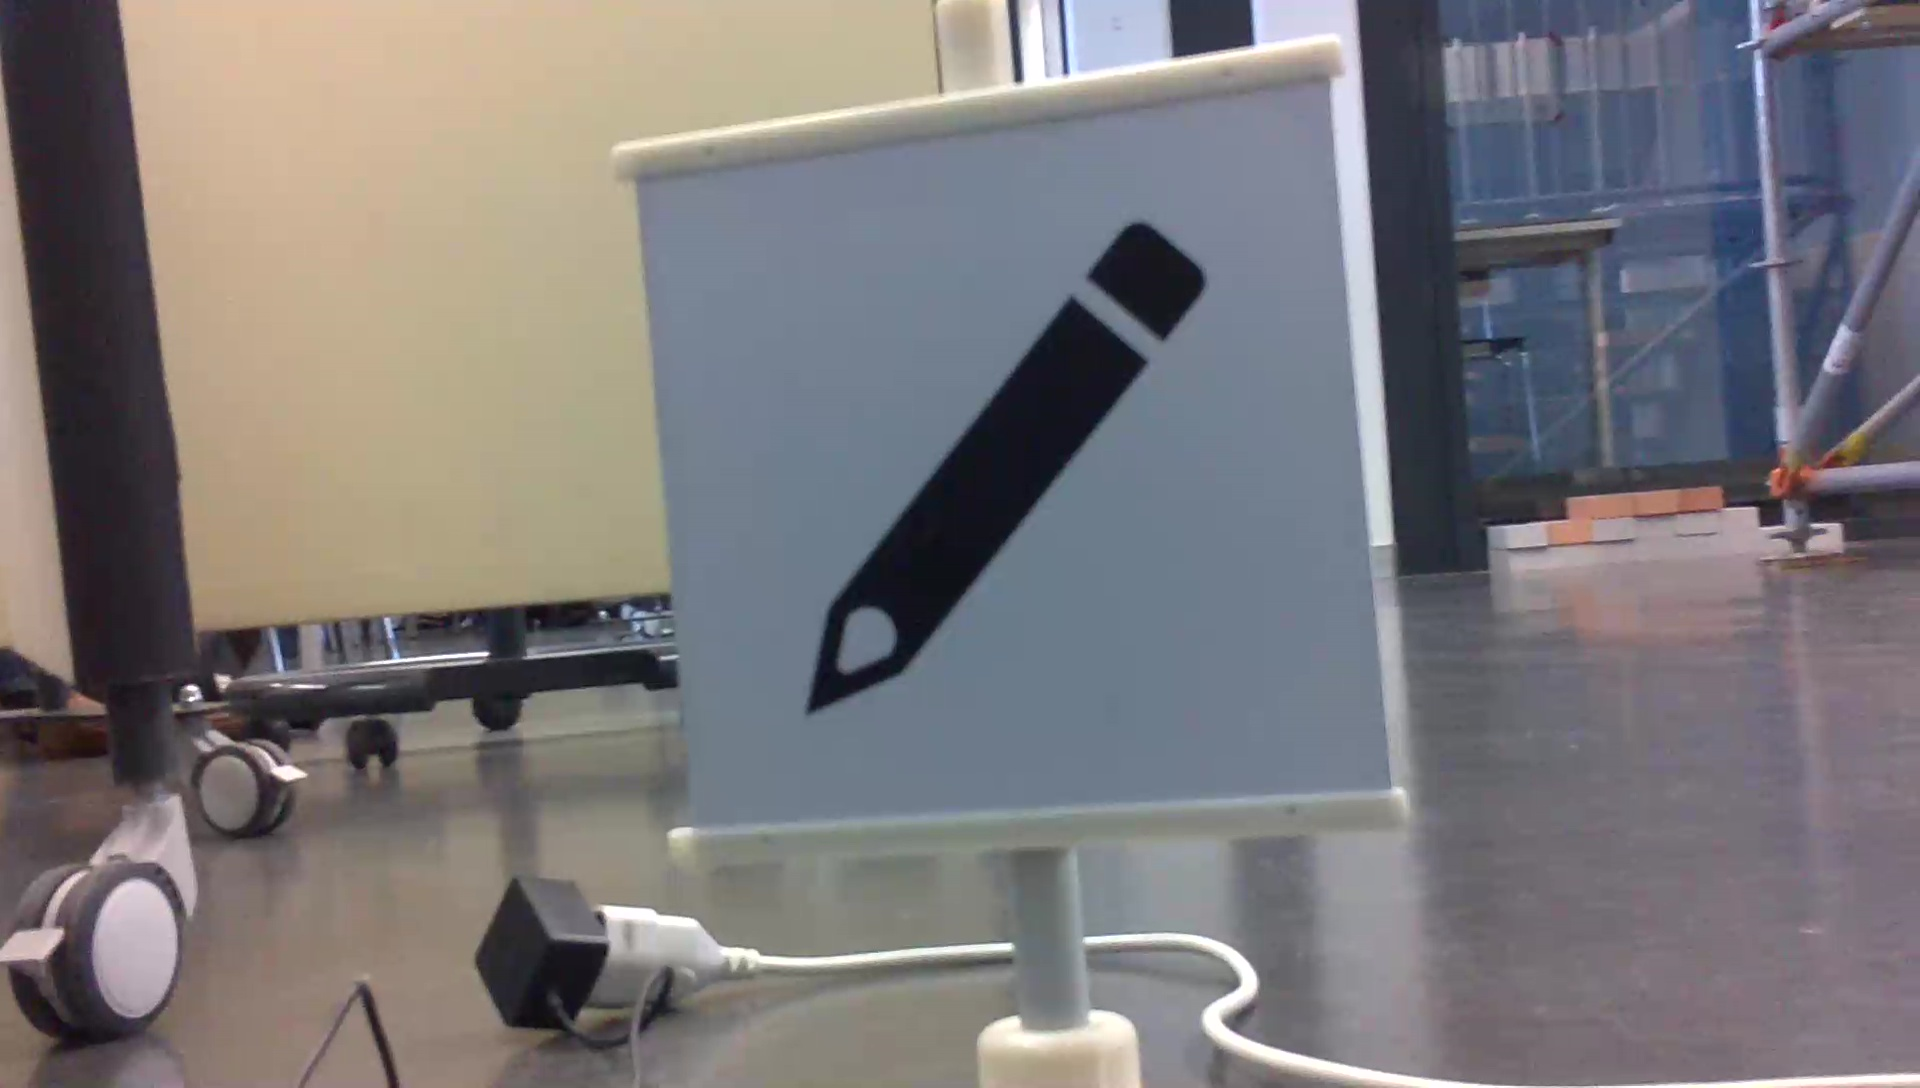pencil: (781, 212, 1222, 721)
